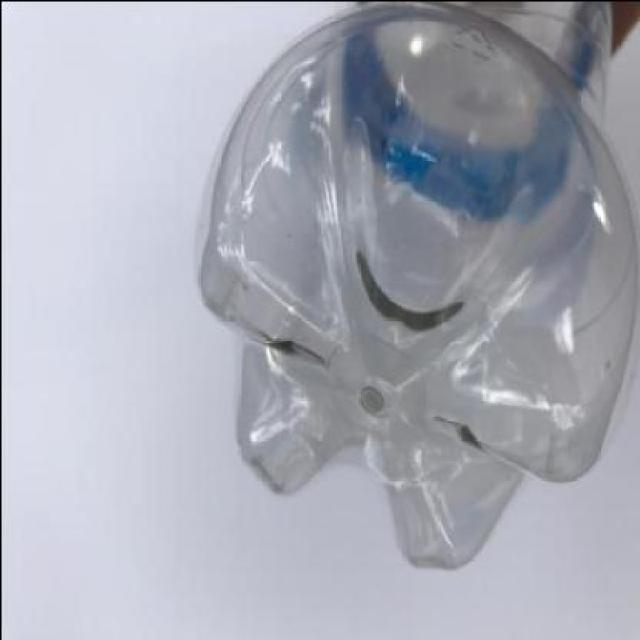PLASTIC: (192, 2, 639, 572)
